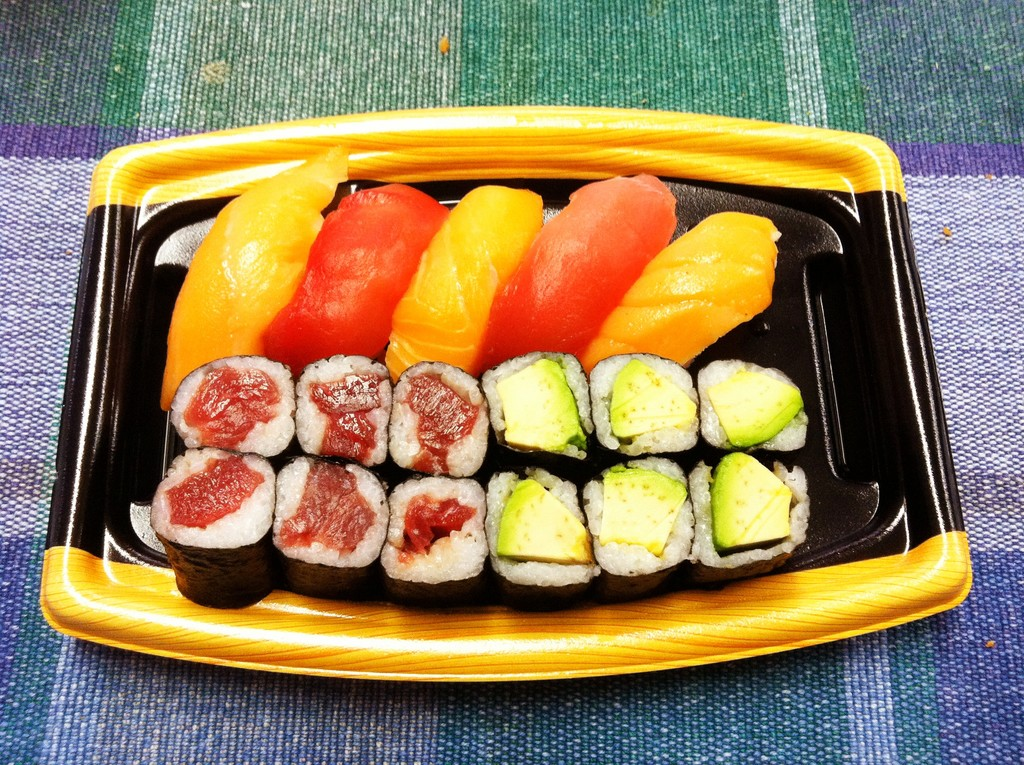sushi: (151, 141, 806, 610), (385, 485, 477, 590)
